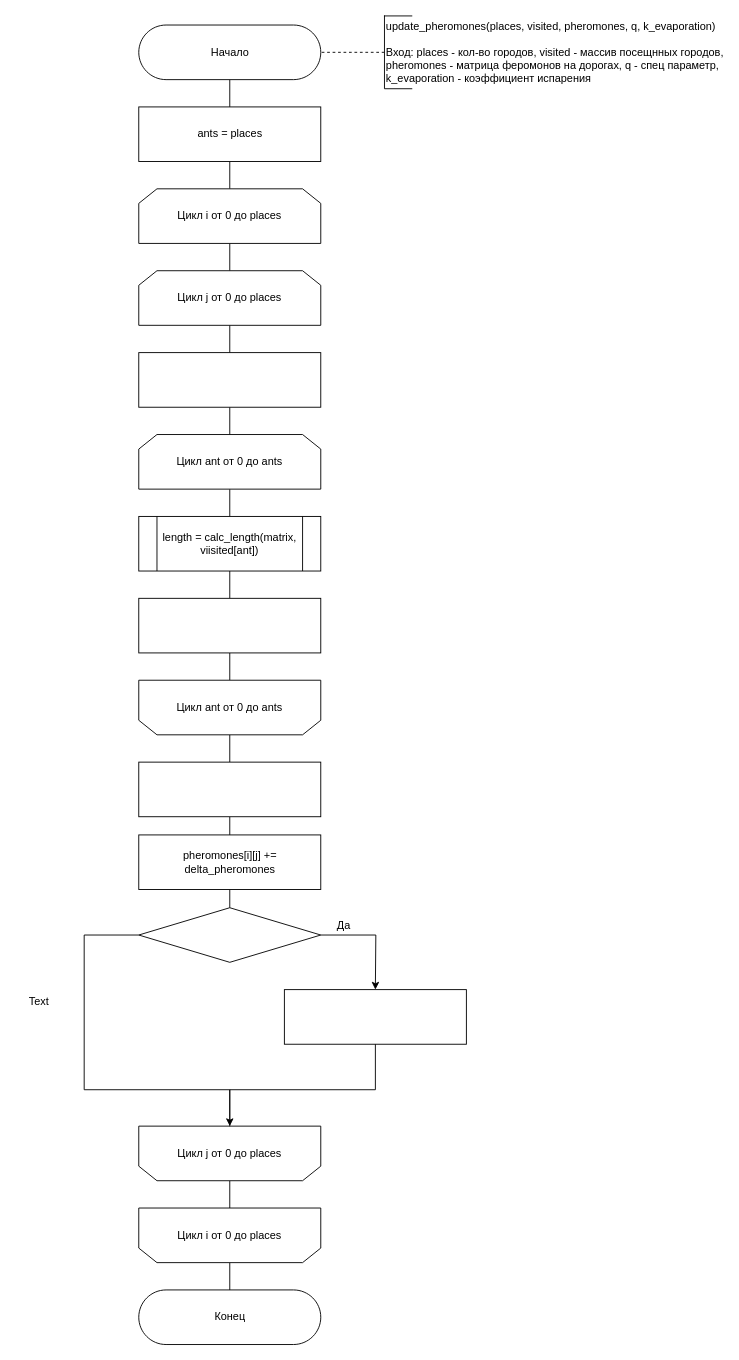
Image size: 739x1360. Some labels were removed from this diagram. The centre of each missing label's shape, as x and y in pixels:
delta_pheromones += q / length: the point at 229,625
delta_pheromones = 0: the point at 229,379
pheromones[i][j] *= (1 - k_evaporation): the point at 229,789
pheromones[i][j] < MIN_PHEROMONE: the point at 229,934
pheromones[i][j] = MIN_PHEROMONE: the point at 374,1016
